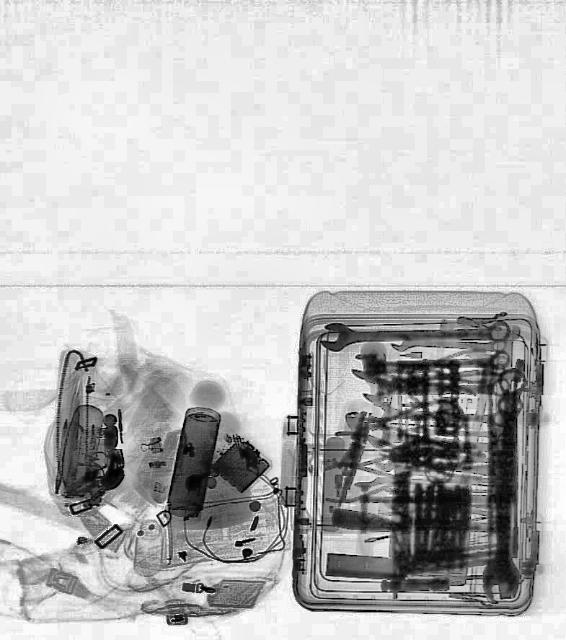Pliers: (322, 460, 408, 506), (332, 430, 412, 470)
Wrench: (480, 394, 526, 600), (318, 320, 512, 350), (350, 348, 510, 382)
